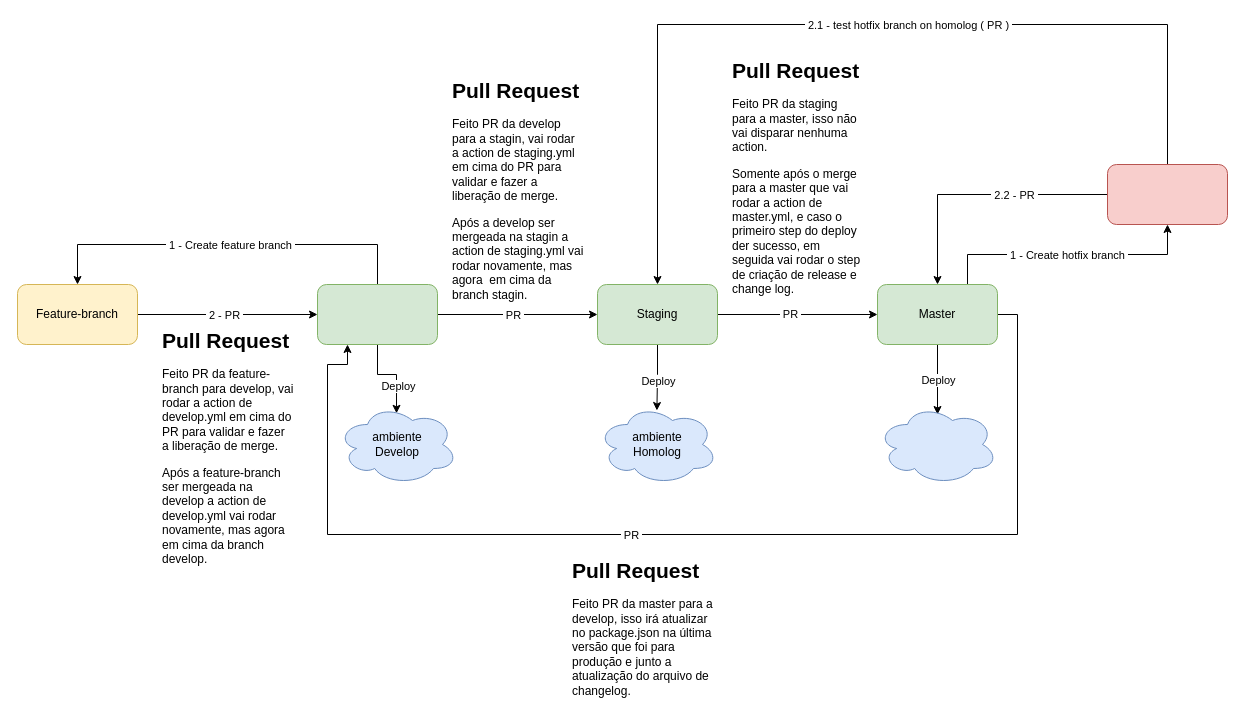
This 1245x722 diagram has some shape labels left out. The centre of each missing label's shape, as x and y in pixels:
ambiente Produção: point (937, 444)
Develop: point (377, 314)
hotfix: point (1167, 194)
